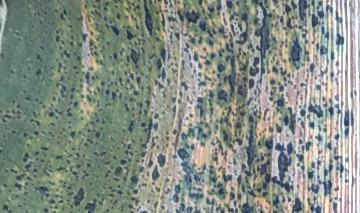tarspot: (253, 1, 272, 63), (271, 152, 294, 189), (245, 122, 257, 170), (141, 1, 155, 40), (236, 9, 250, 47), (284, 102, 298, 138), (289, 35, 303, 66), (297, 1, 311, 25), (306, 102, 325, 118), (129, 45, 142, 68), (72, 185, 85, 207), (342, 106, 354, 129), (35, 184, 50, 200), (171, 182, 183, 202), (184, 7, 199, 23), (158, 44, 170, 64), (219, 125, 231, 144), (176, 146, 190, 162), (195, 124, 208, 141), (215, 89, 229, 104), (323, 177, 333, 198), (124, 26, 137, 42), (290, 196, 302, 213), (149, 167, 162, 182), (183, 175, 196, 190), (175, 6, 185, 25), (86, 196, 97, 213), (180, 162, 194, 175), (334, 31, 345, 47), (187, 191, 204, 201), (334, 9, 344, 26), (241, 200, 254, 213), (155, 152, 167, 166), (179, 78, 191, 92), (310, 10, 318, 31), (286, 138, 295, 156), (128, 173, 141, 185), (108, 25, 121, 37), (247, 64, 260, 76), (214, 60, 226, 73), (309, 181, 320, 195), (207, 173, 221, 184), (78, 31, 92, 42), (166, 13, 178, 25), (263, 137, 274, 150), (318, 43, 329, 56), (143, 96, 154, 109), (121, 101, 132, 114), (322, 29, 333, 42), (112, 164, 122, 178), (247, 77, 257, 91), (276, 96, 286, 110), (281, 1, 291, 15), (179, 131, 189, 145), (298, 105, 307, 120), (270, 63, 279, 78), (12, 181, 24, 192), (234, 173, 245, 185), (214, 1, 224, 14), (127, 118, 135, 134), (159, 67, 168, 81), (196, 105, 205, 119), (306, 62, 317, 73), (326, 105, 336, 117), (303, 139, 313, 151), (275, 120, 283, 135), (286, 16, 294, 31), (205, 4, 217, 14), (234, 134, 243, 147), (296, 151, 305, 164), (279, 64, 288, 77), (191, 51, 200, 64), (170, 93, 179, 106), (135, 73, 143, 87), (111, 48, 118, 64), (274, 141, 284, 152), (307, 120, 317, 131), (97, 77, 107, 88), (313, 133, 324, 143), (226, 1, 236, 12), (1, 202, 12, 212), (197, 21, 207, 32), (195, 93, 204, 105), (111, 88, 118, 103), (306, 164, 312, 181), (313, 82, 323, 92), (172, 30, 182, 40), (39, 143, 49, 153), (46, 109, 55, 120), (117, 157, 128, 166), (150, 111, 161, 120), (207, 50, 218, 59), (326, 160, 335, 171), (130, 187, 141, 196), (207, 87, 214, 101), (264, 171, 271, 184), (67, 129, 76, 139), (145, 157, 154, 167), (151, 122, 161, 131), (233, 120, 242, 130), (325, 140, 334, 150), (124, 141, 134, 150), (247, 112, 255, 123), (205, 39, 216, 47), (237, 83, 243, 97), (277, 83, 286, 92), (93, 129, 101, 139), (163, 133, 171, 143), (245, 170, 255, 178), (329, 70, 337, 80), (334, 131, 341, 142), (138, 119, 146, 128), (217, 187, 225, 196), (332, 153, 342, 160), (196, 1, 204, 9), (268, 79, 278, 85), (321, 168, 327, 178), (292, 1, 297, 12), (241, 163, 246, 172)
